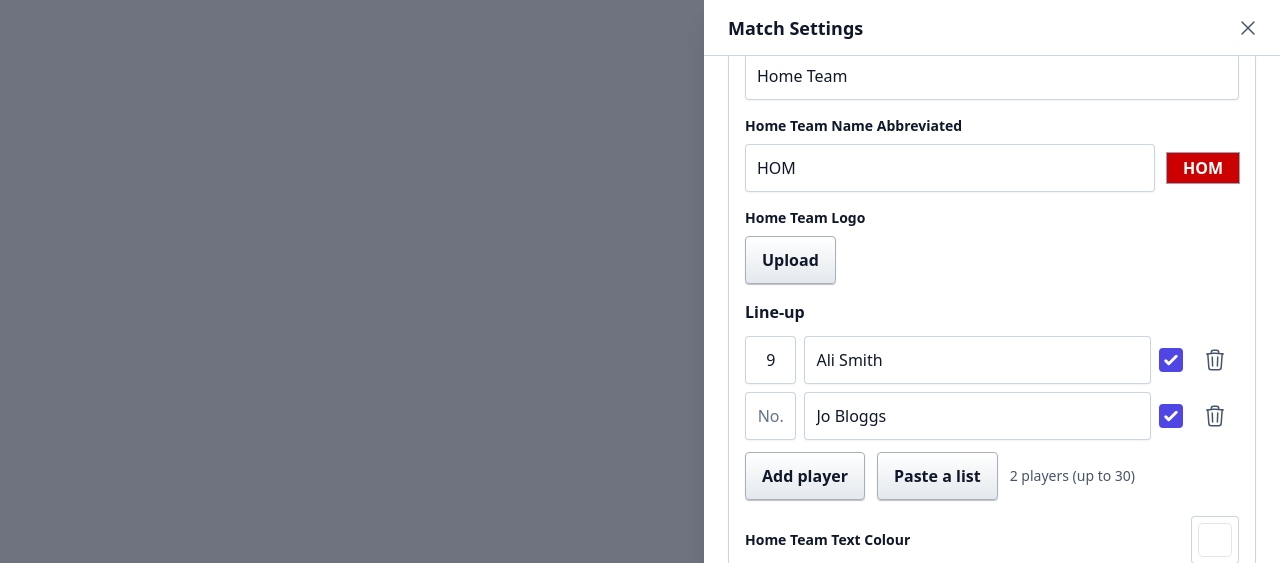
Line-up editor › removes players, leaving no line-up at all once the last one goes
This screenshot has width=1280, height=563.
(page scrolled)
Click the button named "Remove Ali Smith" at (1215, 360), box left=1191, top=336, right=1239, bottom=384
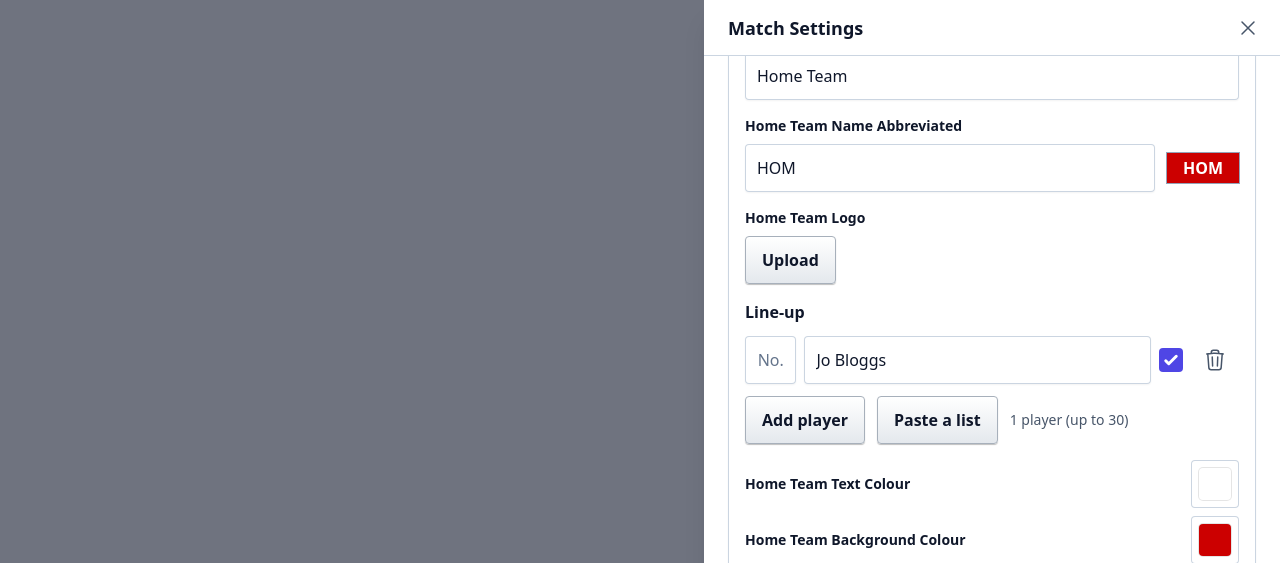
Click the button named "Remove Jo Bloggs" at (1215, 360), box left=1191, top=336, right=1239, bottom=384
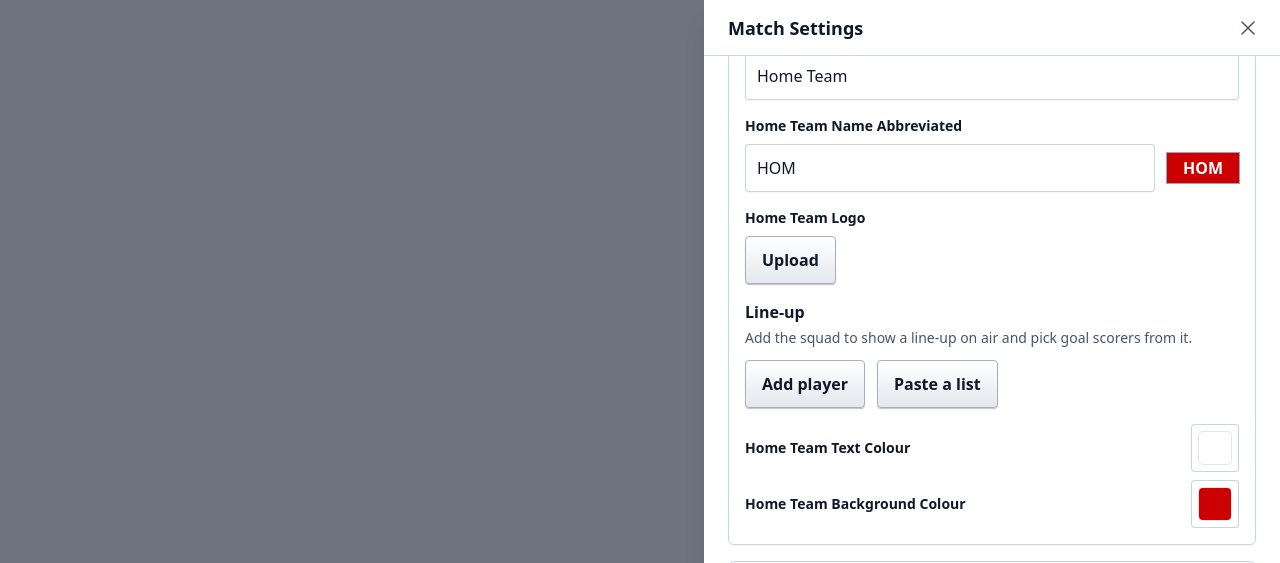
Result: the text "Add the squad to show a line-up on air" is shown at left=745, top=328, right=1192, bottom=347
